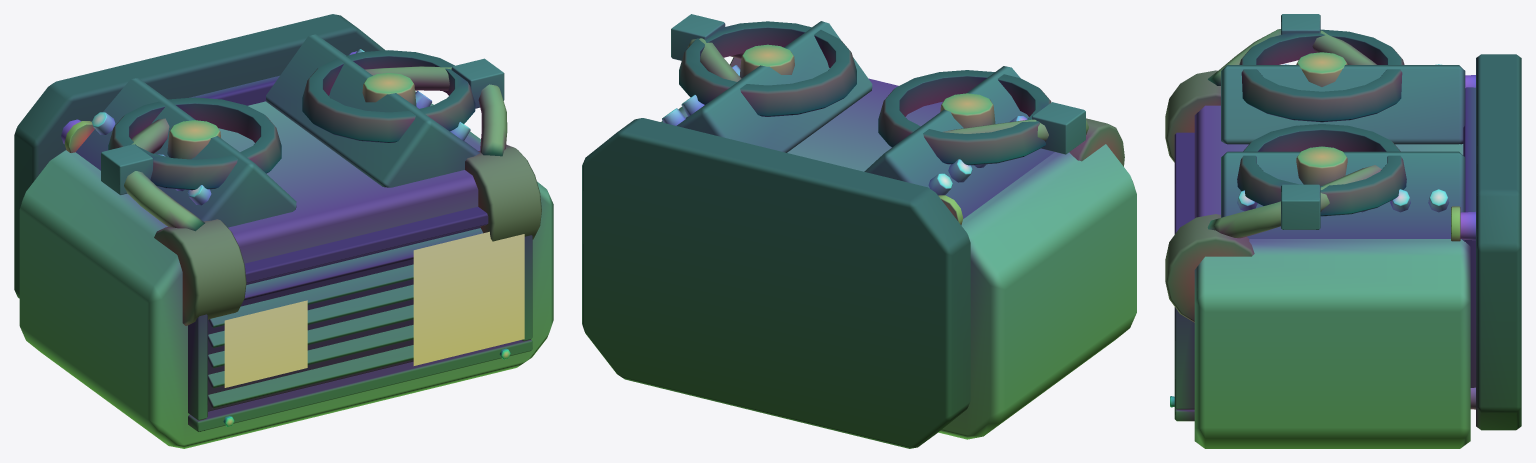
The model's file is gen_mtu_mb873_v12.glb.
3 views of the same model, side by side, from view 1: azimuth 30°, elevation 25°; view 2: azimuth 150°, elevation 25°; view 3: azimuth 270°, elevation 25° (orthographic). The views are drawn at different scales.
Visible parts, largest first — view 1: Body__armor, Body__gunmetal, Body__dark, Body__decal, Body__armor_oxide, Body__copper, Body__brass, Body__chrome, Body__accent; view 2: Body__dark, Body__armor, Body__gunmetal, Body__brass, Body__copper, Body__chrome, Body__armor_oxide; view 3: Body__armor, Body__dark, Body__gunmetal, Body__armor_oxide, Body__copper, Body__brass, Body__chrome.
Boxes of the visible parts, bbox=[...] form: Body__armor: bbox=[19, 91, 553, 448]; Body__gunmetal: bbox=[76, 34, 532, 432]; Body__dark: bbox=[14, 14, 480, 411]; Body__decal: bbox=[224, 231, 524, 387]; Body__armor_oxide: bbox=[154, 144, 541, 325]; Body__copper: bbox=[124, 66, 507, 231]; Body__brass: bbox=[167, 73, 416, 159]; Body__chrome: bbox=[61, 49, 510, 426]; Body__accent: bbox=[64, 121, 94, 152]; Body__dark: bbox=[582, 21, 1051, 448]; Body__armor: bbox=[661, 78, 1136, 439]; Body__gunmetal: bbox=[671, 14, 1085, 218]; Body__brass: bbox=[739, 44, 995, 128]; Body__copper: bbox=[687, 38, 1088, 141]; Body__chrome: bbox=[662, 65, 1027, 195]; Body__armor_oxide: bbox=[729, 57, 1124, 166]; Body__armor: bbox=[1194, 105, 1470, 448]; Body__dark: bbox=[1237, 29, 1521, 430]; Body__gunmetal: bbox=[1174, 14, 1475, 421]; Body__armor_oxide: bbox=[1165, 70, 1254, 322]; Body__copper: bbox=[1207, 29, 1381, 238]; Body__brass: bbox=[1296, 52, 1347, 185]; Body__chrome: bbox=[1170, 64, 1475, 409].
Size of the model in its own units: 0.88 by 0.5412 by 0.671.
